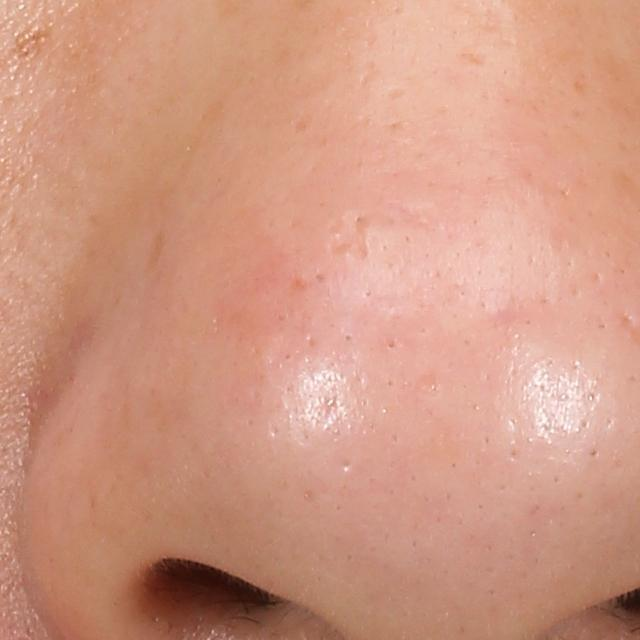atrophic_scar: (325, 206, 379, 269)
melasma: (12, 24, 56, 65)
